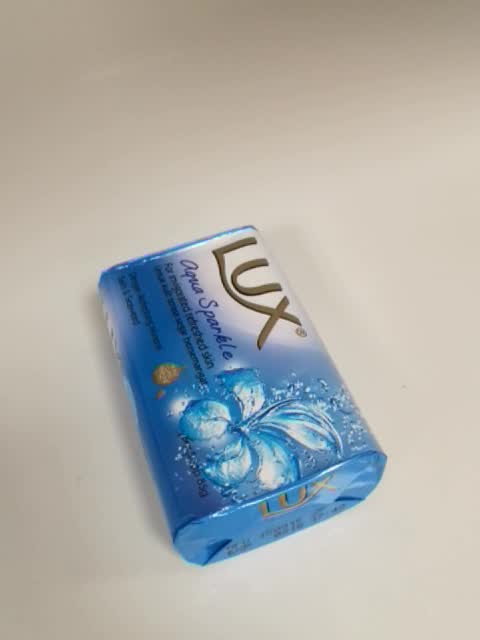soap: (96, 223, 389, 567)
